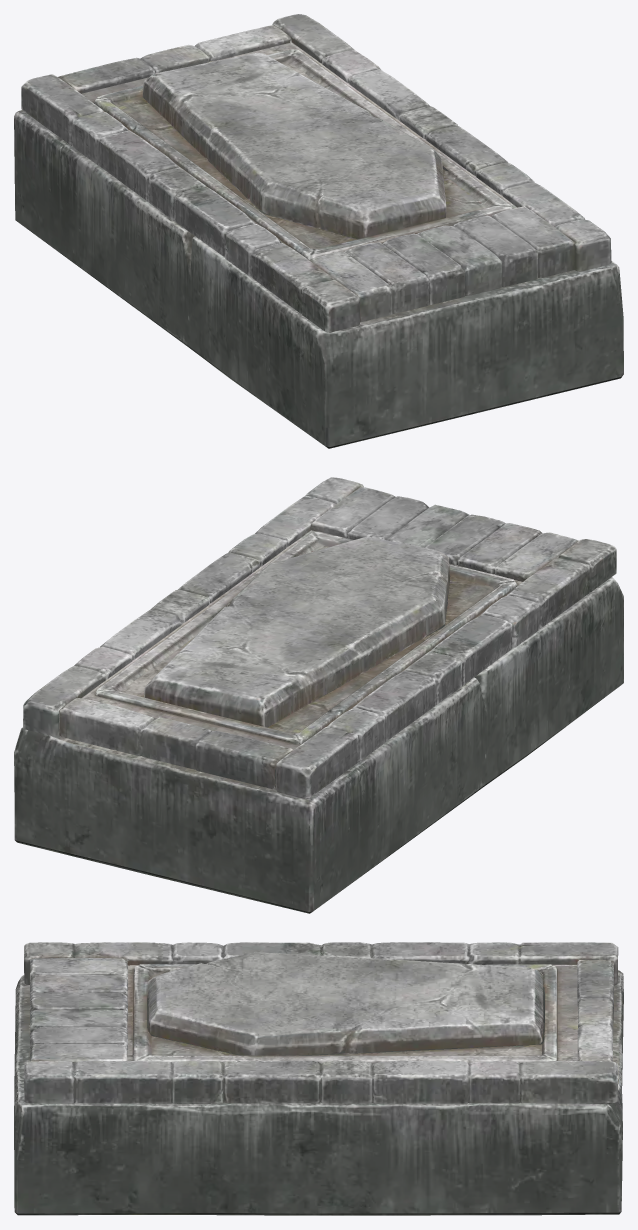
3 views of the same model, one above another, from view 1: azimuth 30°, elevation 25°; view 2: azimuth 150°, elevation 25°; view 3: azimuth 270°, elevation 25° (orthographic). The views are drawn at different scales.
Parts seen in each view (by area): view 1: SM_Tombstone_Stone_Base_02_LOD0; view 2: SM_Tombstone_Stone_Base_02_LOD0; view 3: SM_Tombstone_Stone_Base_02_LOD0.
Boxes of the visible parts, left/top/right/bottom form: SM_Tombstone_Stone_Base_02_LOD0: left=14, top=14, right=623, bottom=448; SM_Tombstone_Stone_Base_02_LOD0: left=14, top=477, right=623, bottom=913; SM_Tombstone_Stone_Base_02_LOD0: left=14, top=942, right=623, bottom=1215.
Size of the model in its own units: 2.02 by 1.04 by 3.67.
2 materials, 2 textured.
